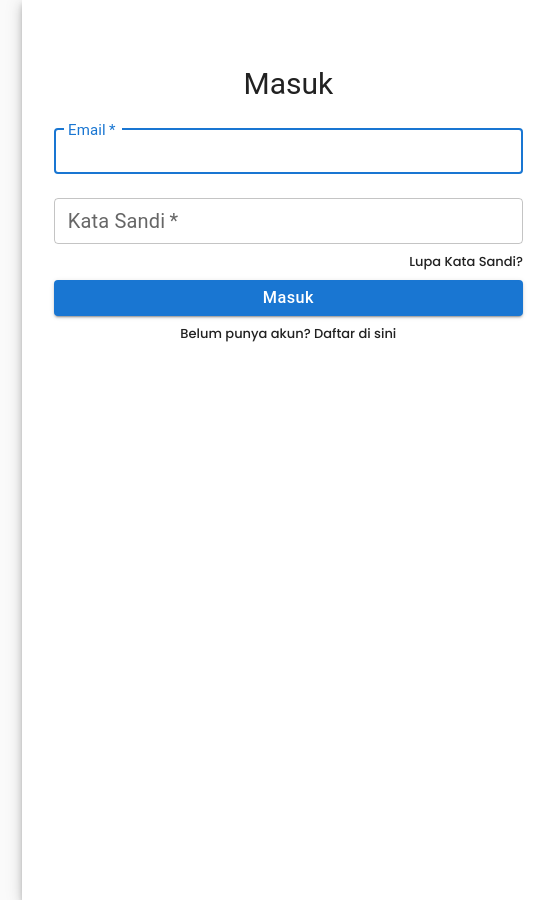
Login Page › Button Clicked Forgot Password
The image size is (541, 900).
Click the heading with test id "forgot-pass-button". click: (466, 262)
box: 409,252 -> 523,272
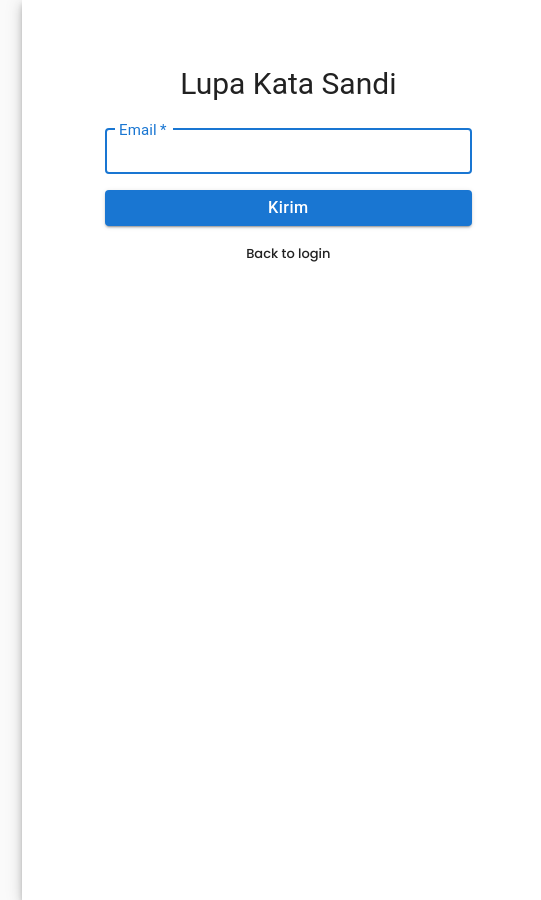
Check: the element with test id "forgot-pass-page" is shown, box 105,66 -> 472,263
